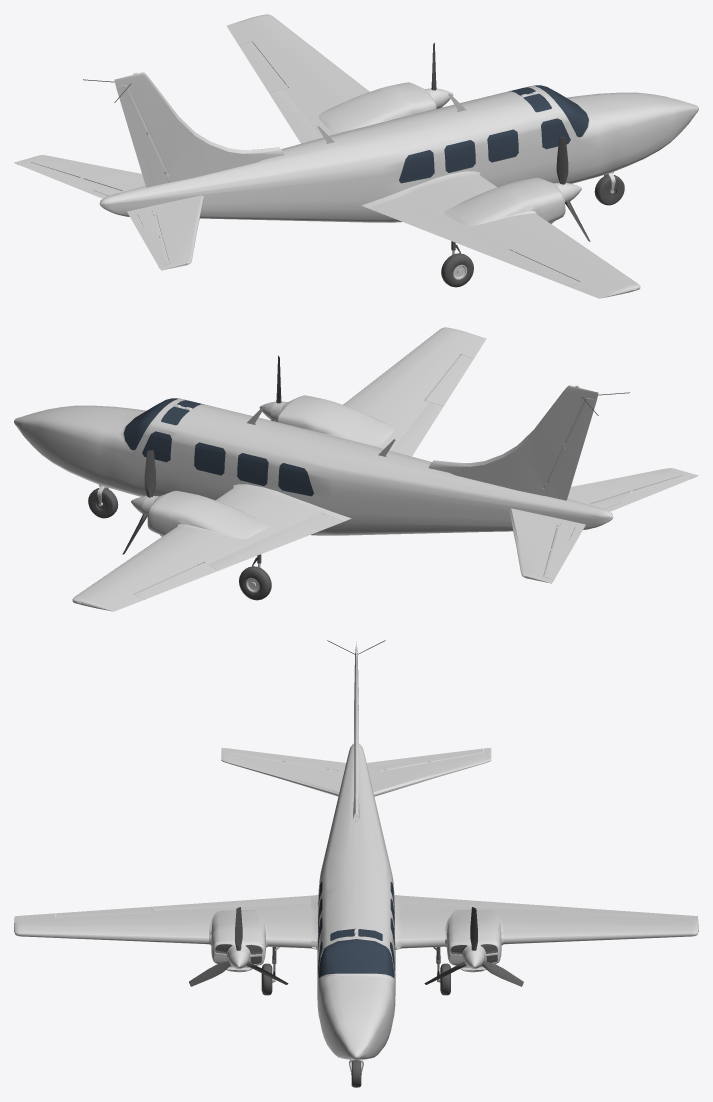
Rendered from aest.glb.
3 renders of one model, top to bottom at view 1: azimuth 30°, elevation 25°; view 2: azimuth 150°, elevation 25°; view 3: azimuth 270°, elevation 25°, orthographic. The views are drawn at different scales.
Visible parts, largest first — view 1: body, glass, trim; view 2: body, glass, trim; view 3: body, trim, glass.
Boxes of the visible parts, <box> form: body: <box>14,14,698,298</box>; glass: <box>399,85,588,183</box>; trim: <box>83,42,624,287</box>; body: <box>14,327,698,611</box>; glass: <box>124,398,313,496</box>; trim: <box>88,355,629,600</box>; body: <box>14,641,698,1074</box>; trim: <box>189,640,523,1087</box>; glass: <box>318,882,394,1059</box>.
Size of the model in its own units: 2.07 by 0.8018 by 2.2.
